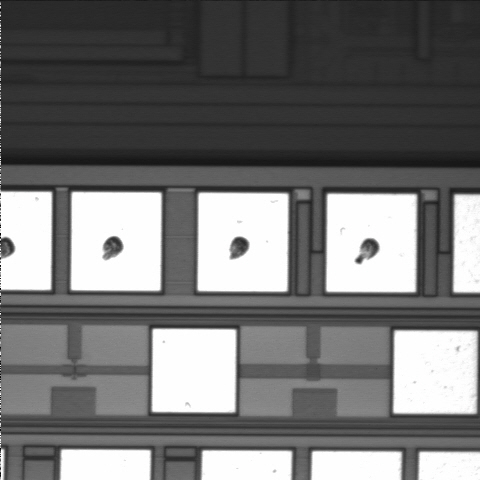pad: (71, 192, 161, 291), (198, 193, 288, 292), (326, 194, 416, 292), (152, 329, 236, 412), (394, 331, 477, 414)
